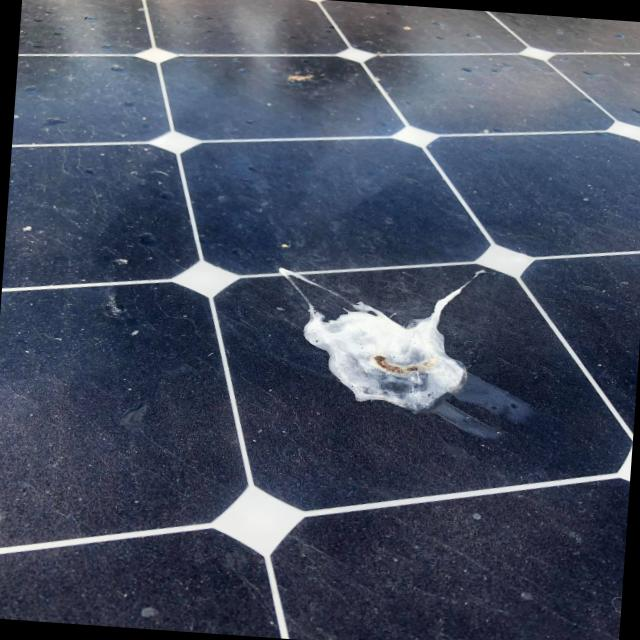faulty: (0, 0, 640, 640), (266, 245, 542, 472)
